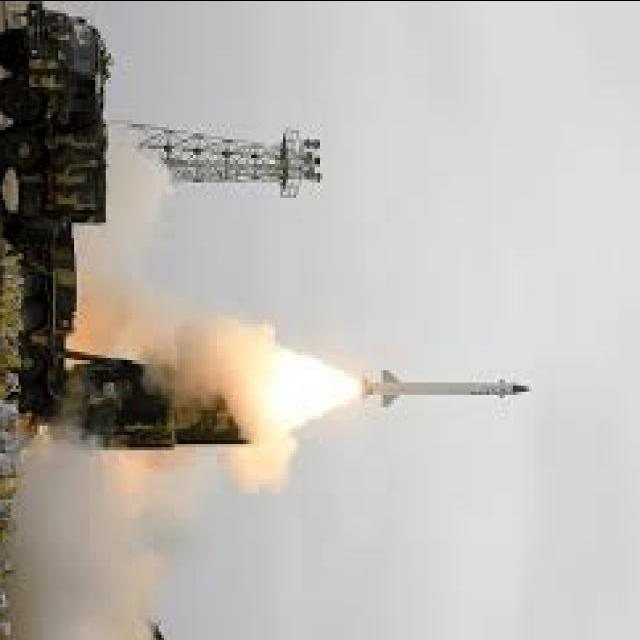missile: (358, 364, 536, 420)
